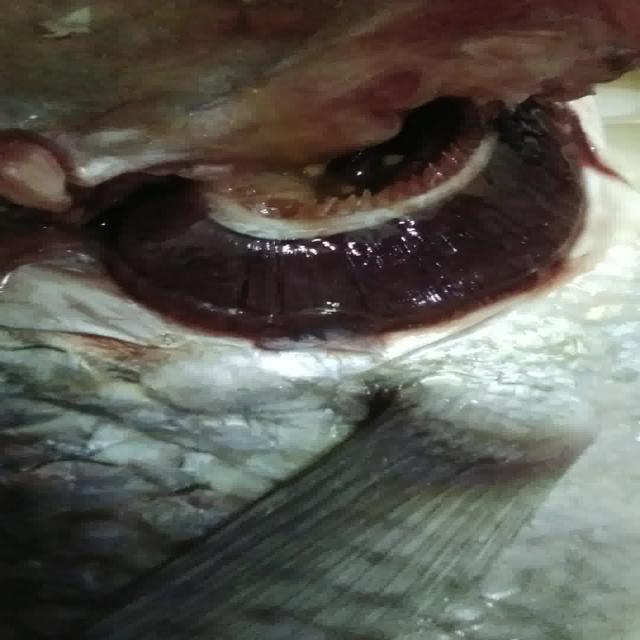Non-Fresh: (69, 59, 601, 362)
